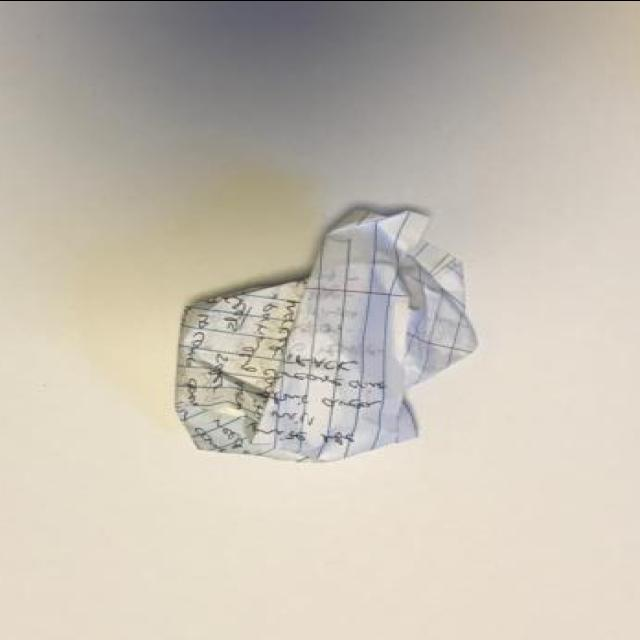kertas: (175, 203, 477, 463)
